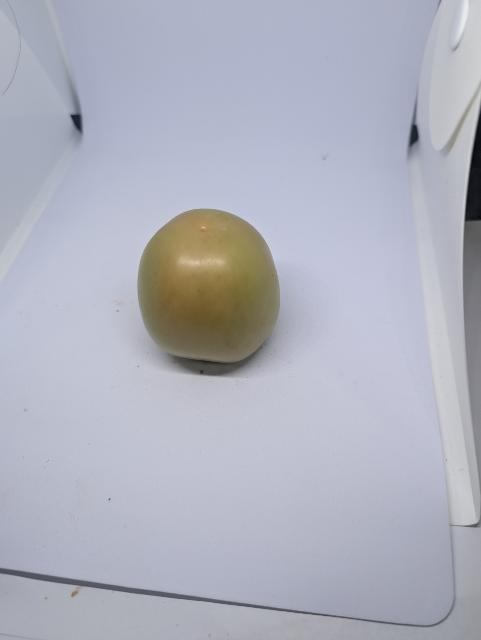breaker: (138, 209, 280, 363)
